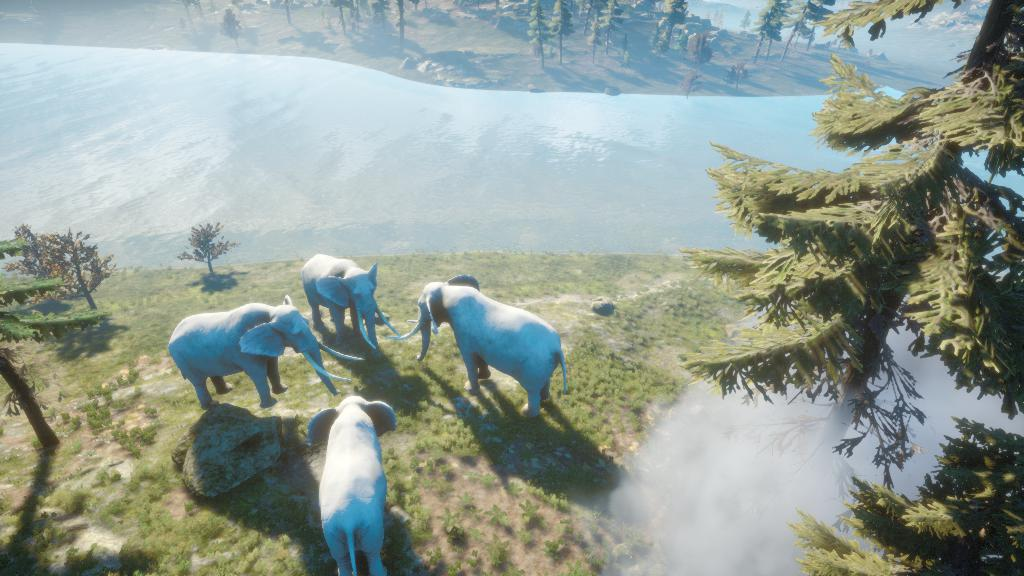elephant: (308, 394, 400, 575)
